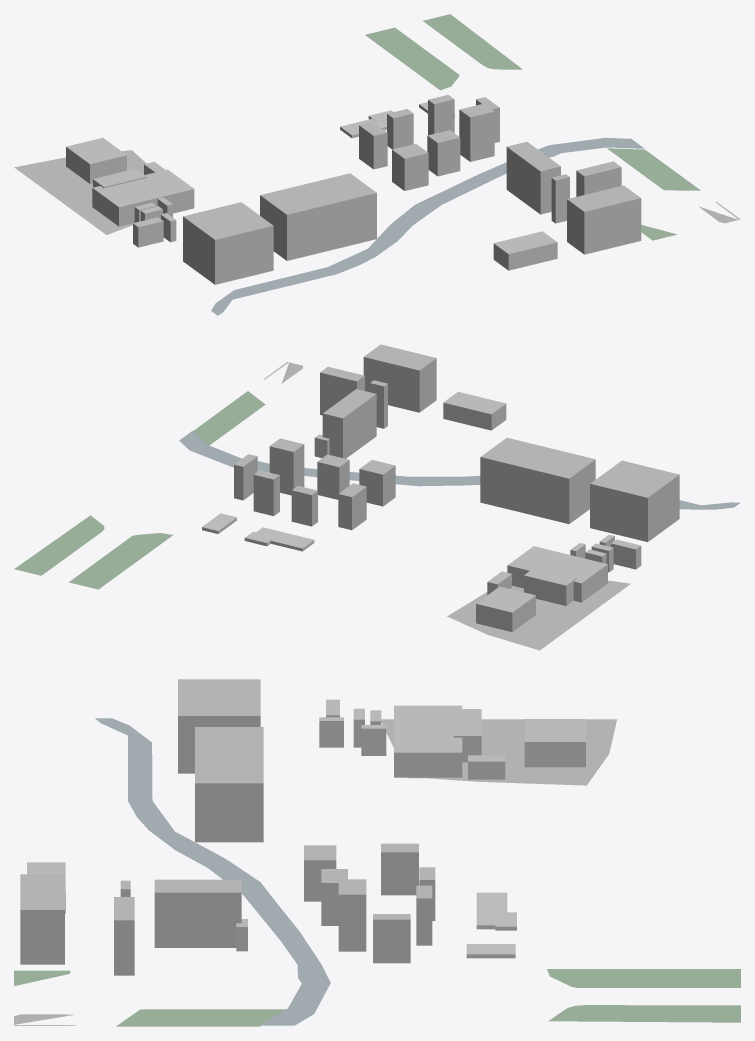
Rendered from 125_75_mid.glb.
The picture shows the model from 3 angles, top to bottom: view 1: azimuth 30°, elevation 25°; view 2: azimuth 150°, elevation 25°; view 3: azimuth 270°, elevation 25°; orthographic projection. The views are drawn at different scales.
Bounding box in the file's own units: 500 × 45.83 × 500.
